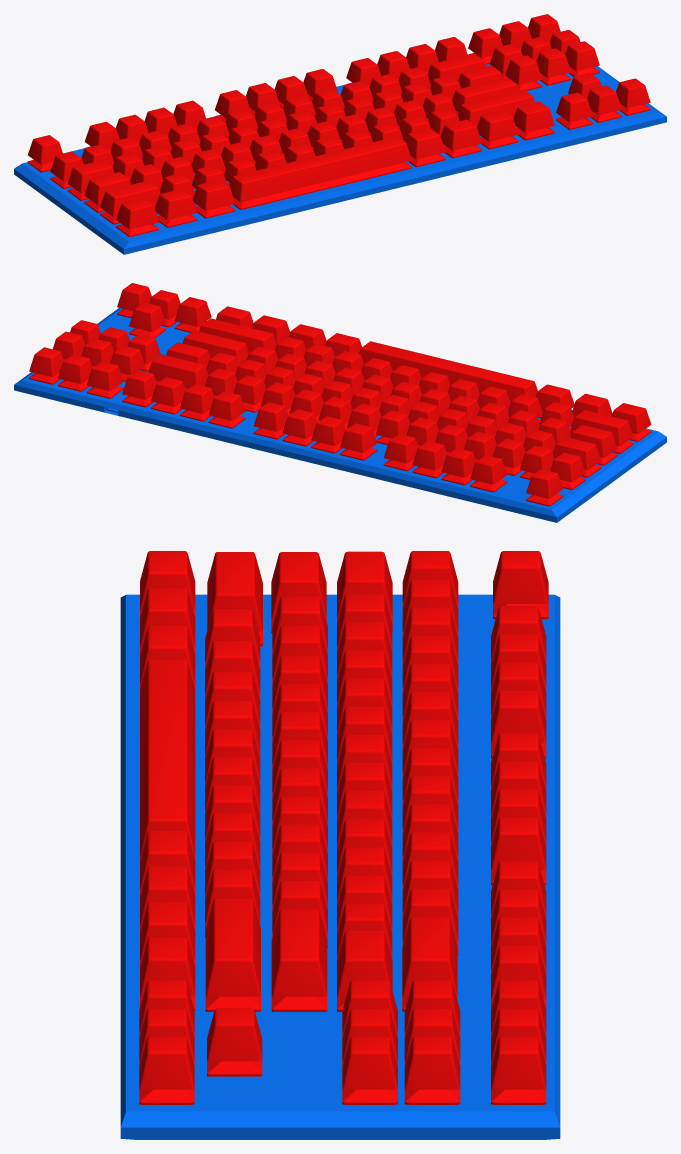
The model's file is KeyboardExport2.fbx.
3 views of the same model, one above another, from view 1: azimuth 30°, elevation 25°; view 2: azimuth 150°, elevation 25°; view 3: azimuth 270°, elevation 25° (orthographic). The views are drawn at different scales.
Visible parts, largest first — view 1: Keycap, BackPlate; view 2: Keycap, BackPlate; view 3: Keycap, BackPlate.
Part boxes in pixels (x1,y1,x2,y2): Keycap: [27, 14, 650, 236]; BackPlate: [14, 64, 666, 254]; Keycap: [29, 283, 651, 506]; BackPlate: [14, 307, 666, 522]; Keycap: [139, 551, 548, 1104]; BackPlate: [120, 594, 560, 1139].
Bounding box in the file's own units: 78.84 × 5.54 × 27.64.
